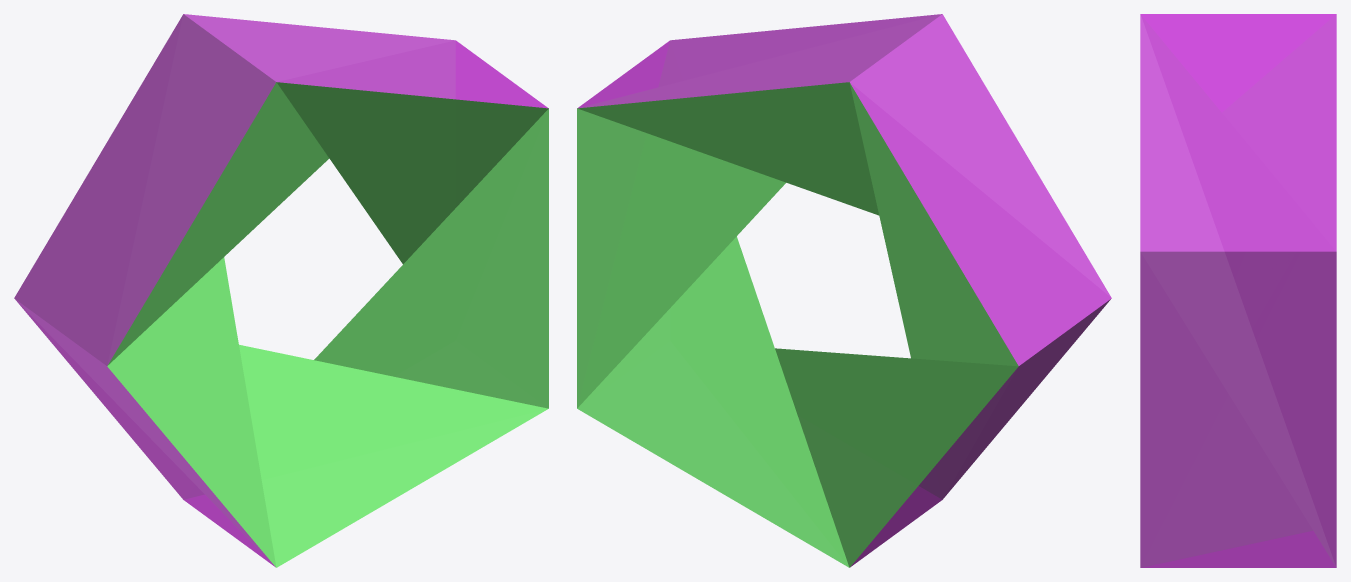
The model's file is PentagonalIrisToroid.obj.
3 renders of one model, left to right at view 1: azimuth 30°, elevation 25°; view 2: azimuth 150°, elevation 25°; view 3: azimuth 270°, elevation 25°, orthographic. The views are drawn at different scales.
Bounding box in the file's own units: 2.74 × 2.88 × 1.
